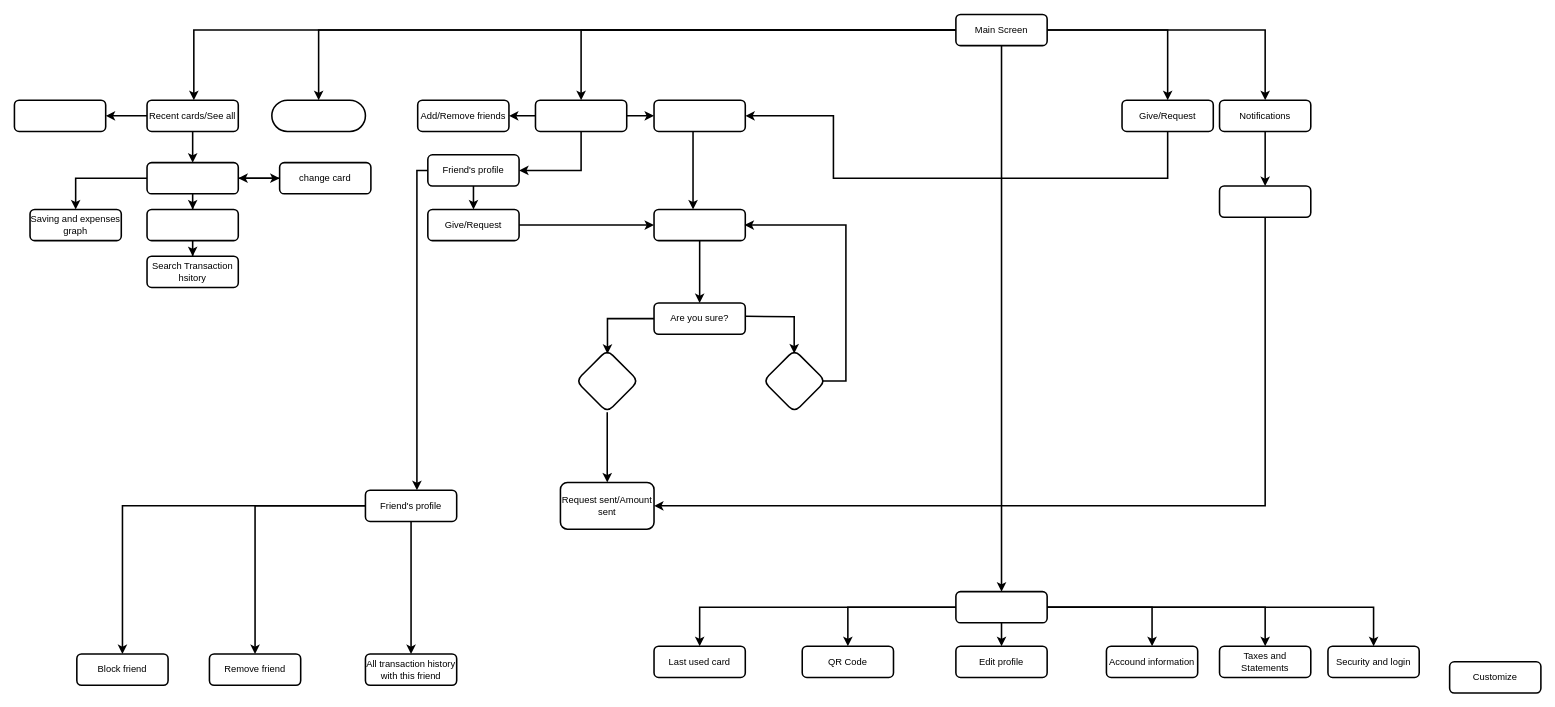
Some shapes in this 1555 by 707 pixel diagram are drawn without their labels. The box of each missing label's shape, as (x1, y1, x2, y2) in pixels:
Accept money/ Receive money: (1218, 185, 1311, 218)
Add new card: (13, 99, 106, 132)
No: (762, 349, 826, 413)
Recent Friends/See all: (534, 99, 627, 132)
Search friends: (653, 99, 746, 132)
See all transactions: (146, 161, 239, 194)
Select amount: (653, 208, 746, 241)
Total Amount: (271, 99, 366, 132)
Transaction history: (146, 208, 239, 241)
Yes: (575, 349, 639, 413)
Your Profile: (955, 590, 1048, 623)
